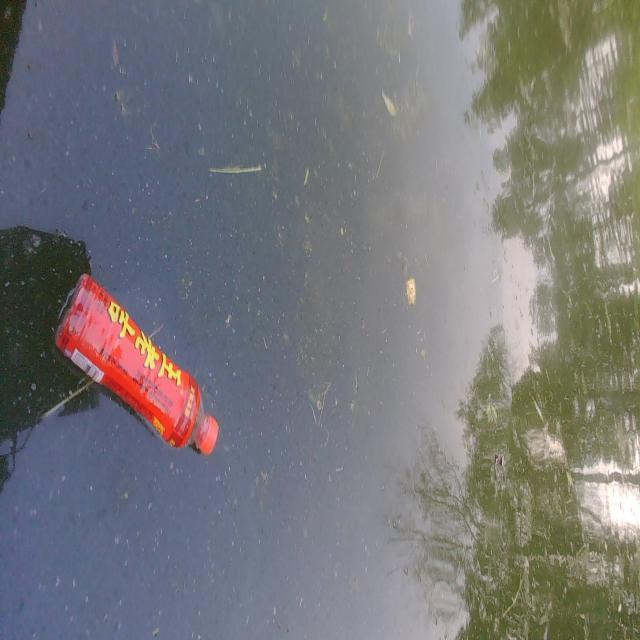bottle: (47, 267, 249, 465)
